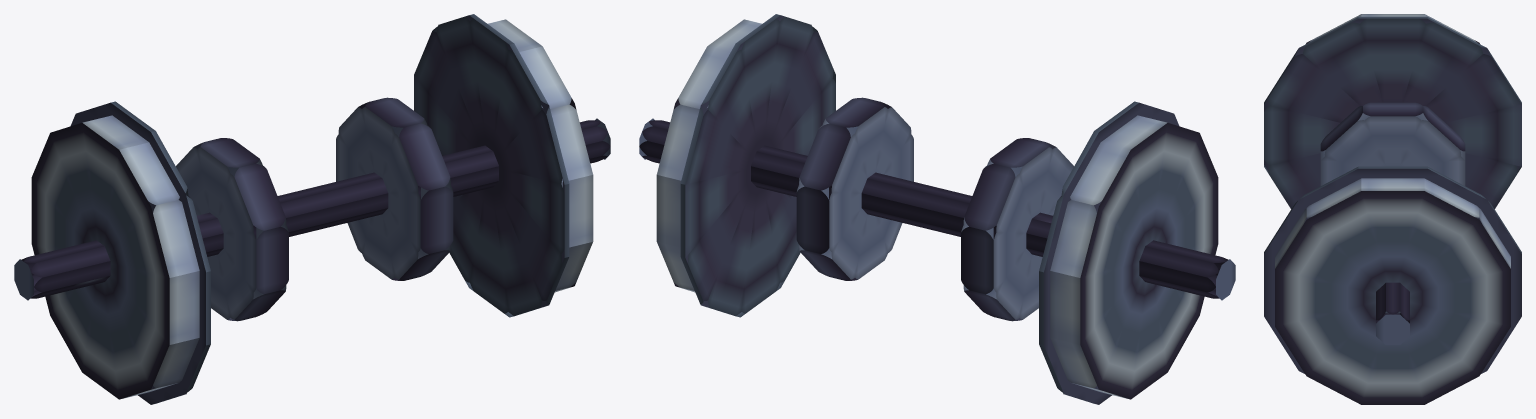
File: 915mm_carriage_general_wheel.obj
3 views of the same model, side by side, from view 1: azimuth 30°, elevation 25°; view 2: azimuth 150°, elevation 25°; view 3: azimuth 270°, elevation 25° (orthographic). The views are drawn at different scales.
Parts seen in each view (by area): view 1: cylinder_selection; view 2: cylinder_selection; view 3: cylinder_selection.
Part boxes in pixels (x1=…): cylinder_selection: x1=14, y1=14, x2=610, y2=404; cylinder_selection: x1=639, y1=14, x2=1235, y2=404; cylinder_selection: x1=1264, y1=14, x2=1521, y2=404.
Bounding box in the file's own units: 2.21 × 1 × 1.
